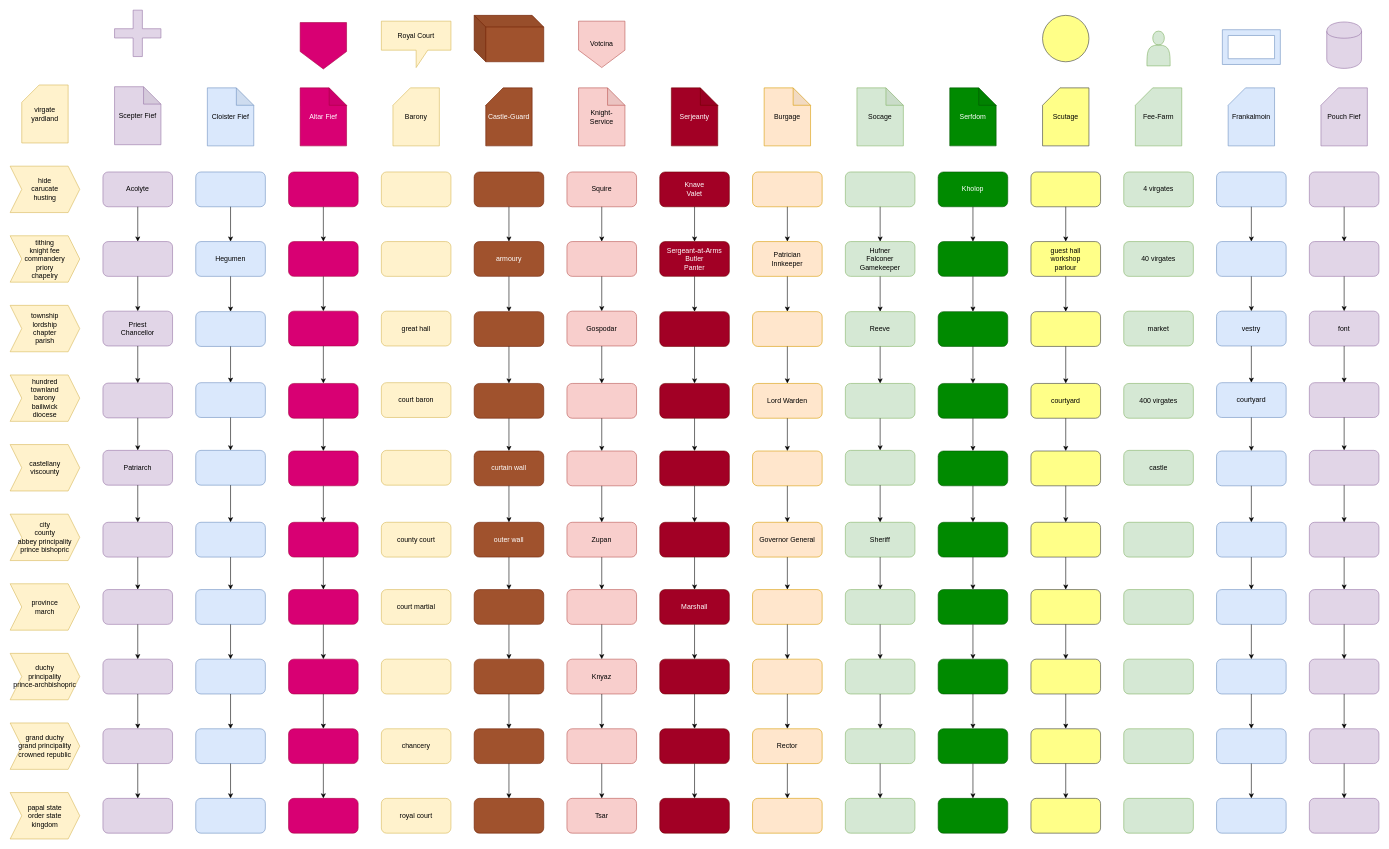
The diagram is 1389 pixels wide and 849 high, and some of its shapes have lost their labels. Here are the shapes that lost their labels. From the top down, the centre of each, then its label:
At pixel 137 33: "orthodox".
At pixel 509 38: "Balkan Manor".
At pixel 1065 38: "Florin".
At pixel 230 189: "Monk".
At pixel 787 189: "Burgher".
At pixel 880 189: "Cottar".
At pixel 137 258: "Chaplain".
At pixel 601 258: "Knight".
At pixel 973 258: "Smerd".
At pixel 1251 258: "cloister".
At pixel 1344 258: "altar".
At pixel 230 328: "Archimandrite".
At pixel 694 328: "Constable Chamberlain".
At pixel 787 328: "Lord Mayor".
At pixel 1065 328: "cabinet".
At pixel 137 400: "Bishop Archbishop".
At pixel 509 400: "keep".
At pixel 601 400: "Boyar".
At pixel 880 400: "Bailiff".
At pixel 1344 399: "cathedra".
At pixel 601 468: "Castellan".
At pixel 787 468: "Lieutenant Governor".
At pixel 601 606: "Voivode Ban".
At pixel 601 746: "Veliki Knyaz".
